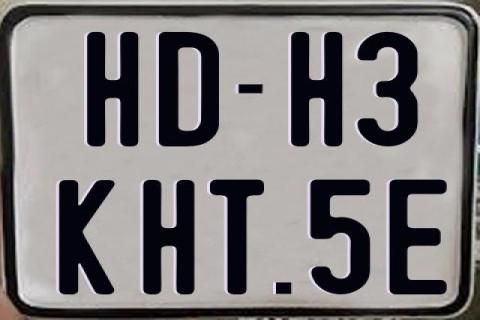0: (356, 31, 418, 148), (309, 179, 371, 296)
D: (158, 32, 220, 150)
E: (386, 178, 448, 296)
H: (87, 32, 144, 150), (288, 31, 343, 148), (140, 178, 194, 294)
K: (59, 178, 120, 296)
T: (208, 177, 264, 292)
